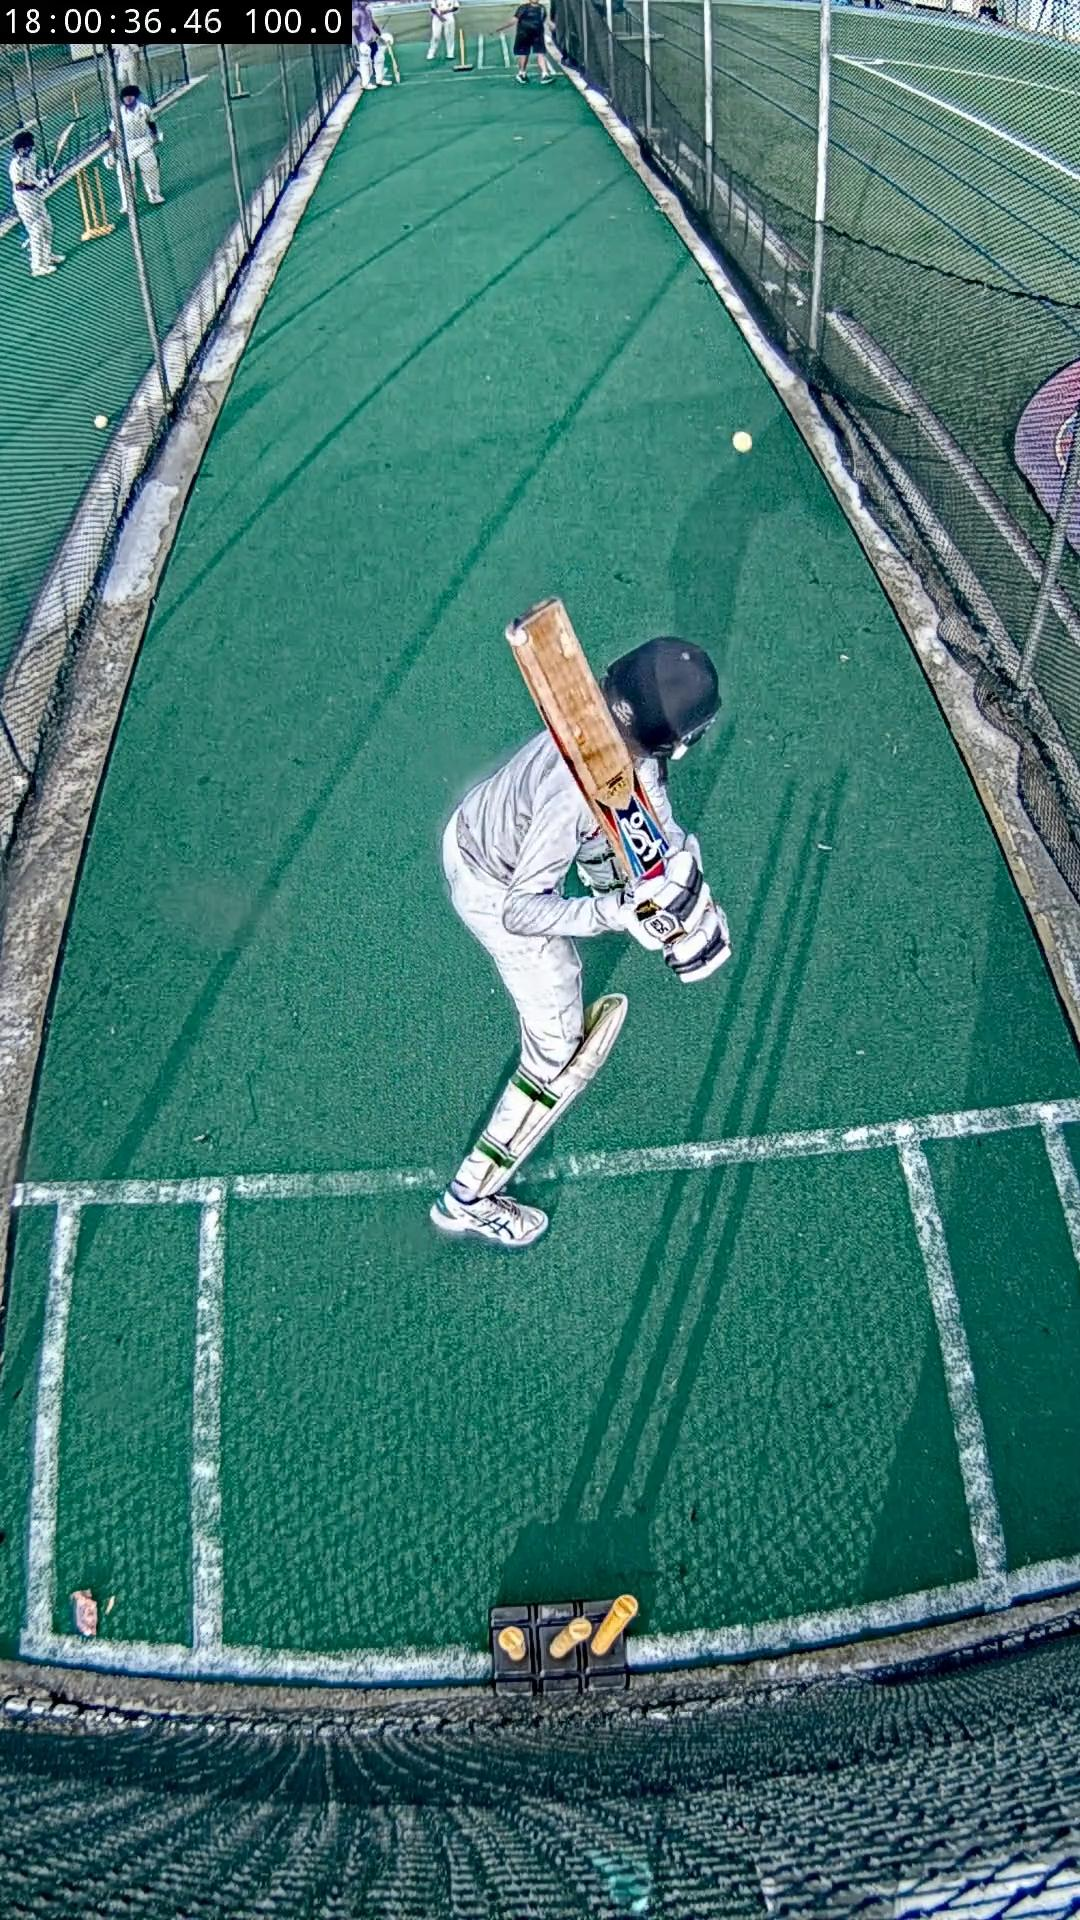ball: (732, 431, 754, 454)
bat: (506, 600, 671, 885)
helmet: (600, 637, 720, 754)
